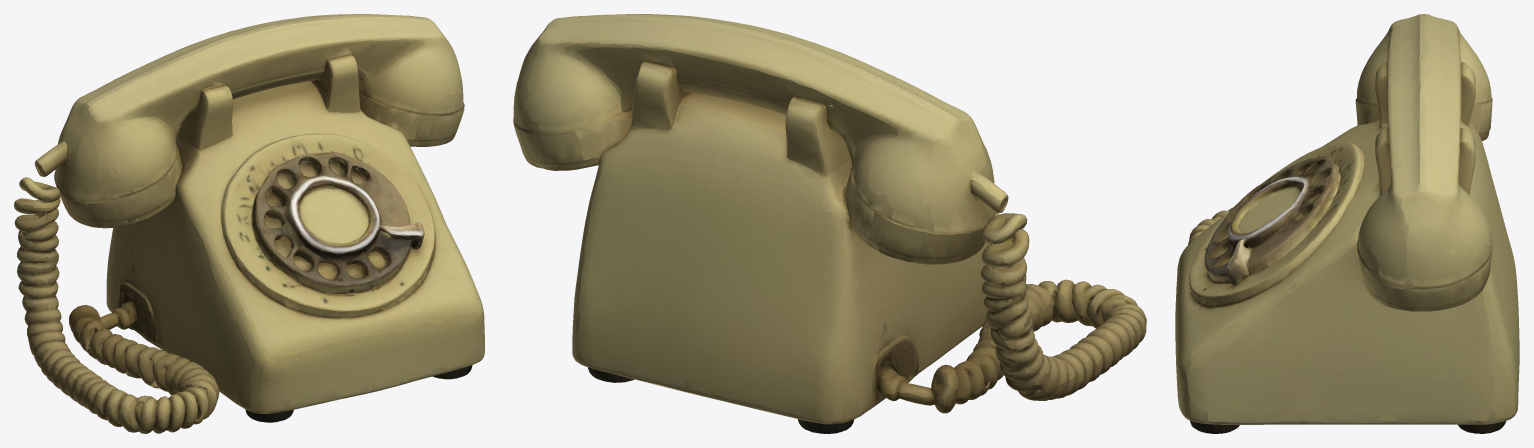
The model's file is parts.glb.
The picture shows the model from 3 angles, left to right: view 1: azimuth 30°, elevation 25°; view 2: azimuth 150°, elevation 25°; view 3: azimuth 270°, elevation 25°; orthographic projection. The views are drawn at different scales.
Bounding box in the file's own units: 0.23 × 0.1448 × 0.1456.
5 materials, 5 textured.
